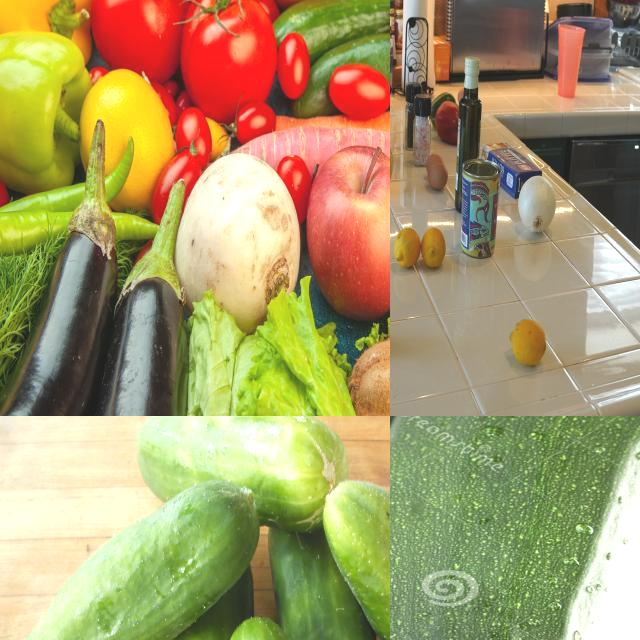bell_pepper: (1, 34, 90, 184), (1, 1, 99, 70), (406, 83, 422, 152), (437, 101, 463, 143), (434, 94, 456, 124)
cucumber: (1, 480, 259, 640), (138, 417, 347, 528), (267, 524, 386, 640), (322, 475, 391, 640), (151, 566, 256, 640), (280, 1, 391, 45), (312, 43, 391, 98)
egg: (428, 165, 450, 193), (425, 156, 445, 181)
eggplant: (1, 124, 119, 417), (100, 194, 193, 417)
onion: (520, 176, 558, 236)
tomato: (183, 1, 279, 115), (97, 1, 186, 78)
zucchini: (391, 417, 640, 640)
